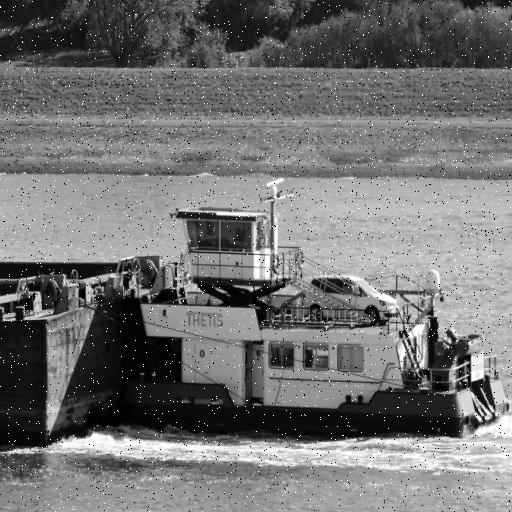tugboat: (109, 175, 512, 454)
